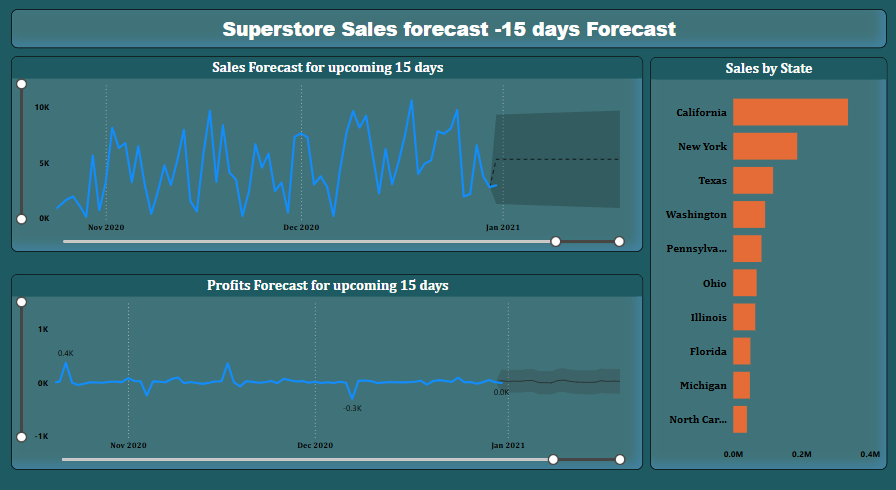

This screenshot's page, from the dashboard's own definition file:
{"tool":"powerbi","page":{"name":"Forecasting","canvas":[1280,720],"ordinal":1},"visuals":[{"type":"lineChart","title":"Sales Forecast for upcoming 15 days","fields":{"Y":["Sum(SuperStore_Sales_Dataset.Sales)"],"Category":["SuperStore_Sales_Dataset.Order Date"]},"box":[15.7,80,902.9,280],"z":0},{"type":"lineChart","title":"Profits Forecast for upcoming 15 days","fields":{"Category":["SuperStore_Sales_Dataset.Order Date"],"Y":["Avg(SuperStore_Sales_Dataset.Profit)"]},"box":[15.7,391.4,902.9,280],"z":1000},{"type":"barChart","title":"Sales by State","fields":{"Category":["SuperStore_Sales_Dataset.State"],"Y":["Sum(SuperStore_Sales_Dataset.Sales)"]},"box":[928.6,81.4,338.6,590],"z":2000},{"type":"textbox","box":[15.7,12.9,1251.4,55.7],"z":3000}]}

Visuals, with their boxes in screenshot pixels (x1, y1, x2, y2), scaled from the page's 1280x720 canvas onto the 896x490 screenshot:
"Sales Forecast for upcoming 15 days" lineChart: <bbox>11, 54, 643, 245</bbox>
"Profits Forecast for upcoming 15 days" lineChart: <bbox>11, 266, 643, 457</bbox>
"Sales by State" barChart: <bbox>650, 55, 887, 457</bbox>
textbox: <bbox>11, 9, 887, 47</bbox>
